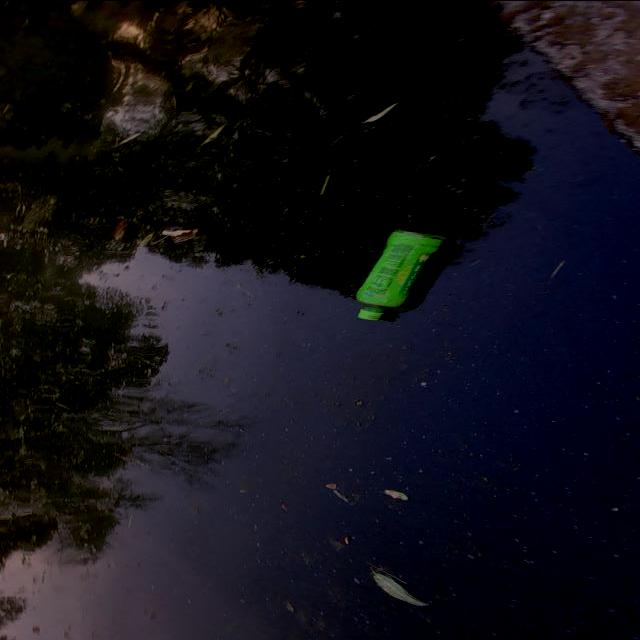bottle: (313, 212, 473, 338)
